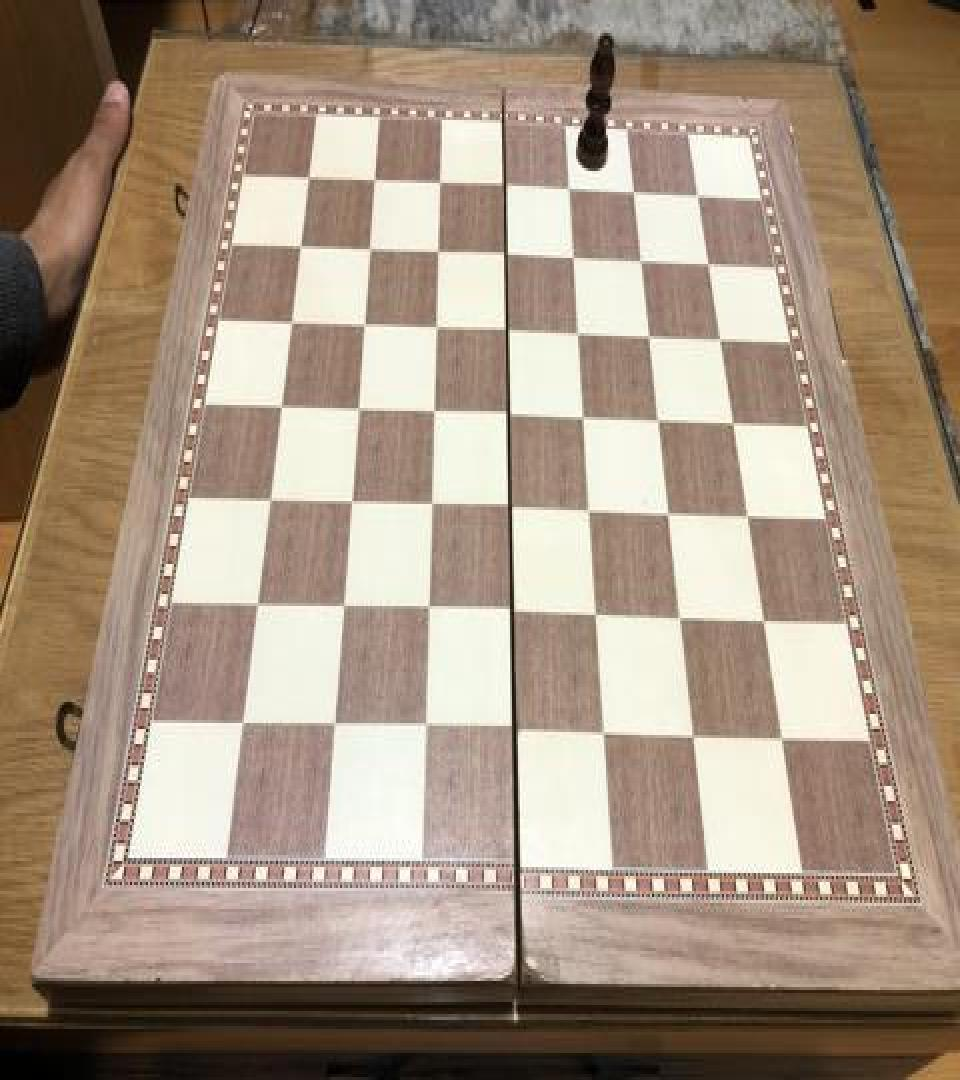xcorner: (753, 601, 777, 638), (246, 586, 270, 623), (682, 718, 706, 755), (503, 712, 527, 749), (689, 176, 713, 212), (561, 170, 585, 206), (496, 168, 520, 204), (432, 165, 456, 201), (366, 162, 390, 198), (301, 159, 325, 195), (700, 244, 724, 280), (632, 242, 656, 278), (565, 238, 589, 274), (497, 236, 521, 272), (429, 232, 453, 268), (361, 231, 385, 267), (292, 228, 316, 264), (711, 320, 735, 356), (640, 316, 664, 352), (569, 314, 593, 350), (498, 312, 522, 348), (427, 309, 451, 345), (355, 306, 379, 342), (283, 303, 307, 339), (724, 404, 748, 440), (649, 400, 673, 436), (574, 398, 598, 434), (499, 396, 523, 432), (424, 393, 448, 429), (348, 390, 372, 426), (272, 387, 296, 423), (738, 496, 762, 532), (659, 494, 683, 530), (580, 492, 604, 528), (500, 489, 524, 525), (420, 486, 444, 522), (340, 483, 364, 519), (260, 482, 284, 518), (670, 598, 694, 634), (586, 597, 610, 633), (502, 594, 526, 630), (417, 591, 441, 627), (332, 590, 356, 626), (771, 720, 795, 756), (593, 716, 617, 752), (413, 711, 437, 747), (322, 708, 346, 744), (230, 706, 254, 742), (625, 173, 649, 208)
